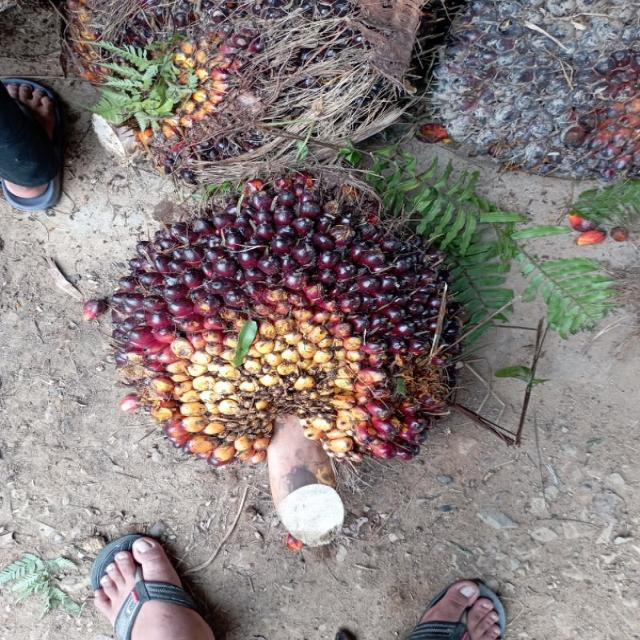fraksi 1: (100, 156, 482, 528)
